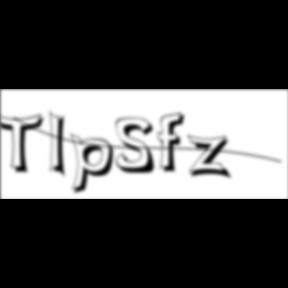S: (116, 117, 162, 176)
T: (0, 112, 50, 176)
f: (158, 111, 190, 175)
l: (50, 108, 72, 182)
p: (70, 132, 120, 198)
z: (188, 134, 236, 182)
